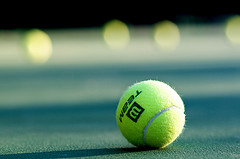tennis ball: (116, 77, 187, 152)
